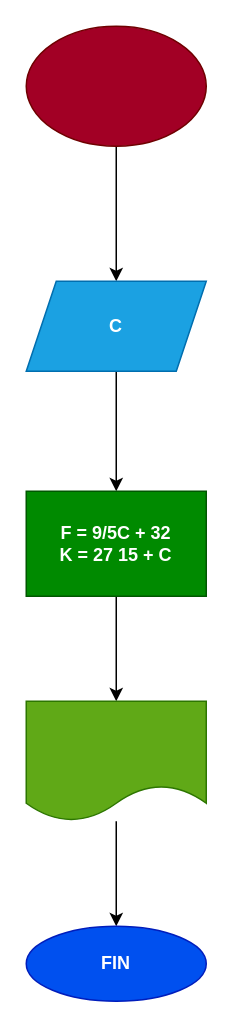
The diagram is 233 pixels wide and 1028 high, and some of its shapes have lost their labels. The shapes that lost their labels are listed below. From the top down, each one's centre as x and y in pixels, then its label:
At point (115, 85): "INICIO".
At point (115, 760): "F , K".
